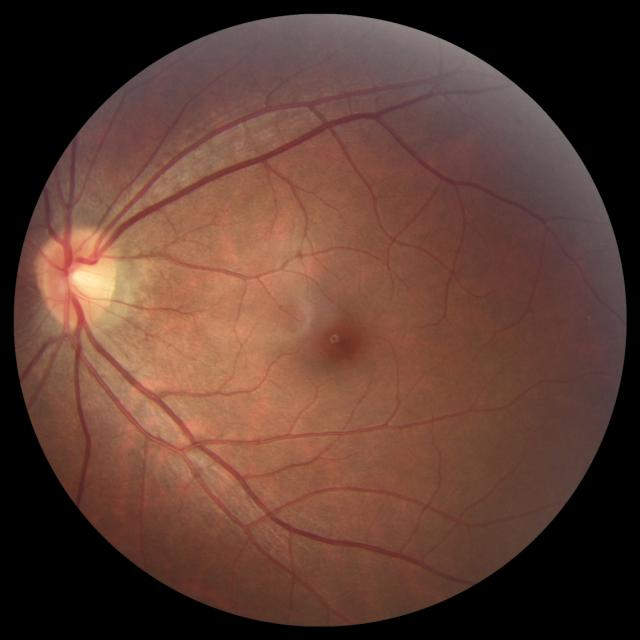OC: (64, 262, 96, 295)
OD: (38, 228, 117, 325)
